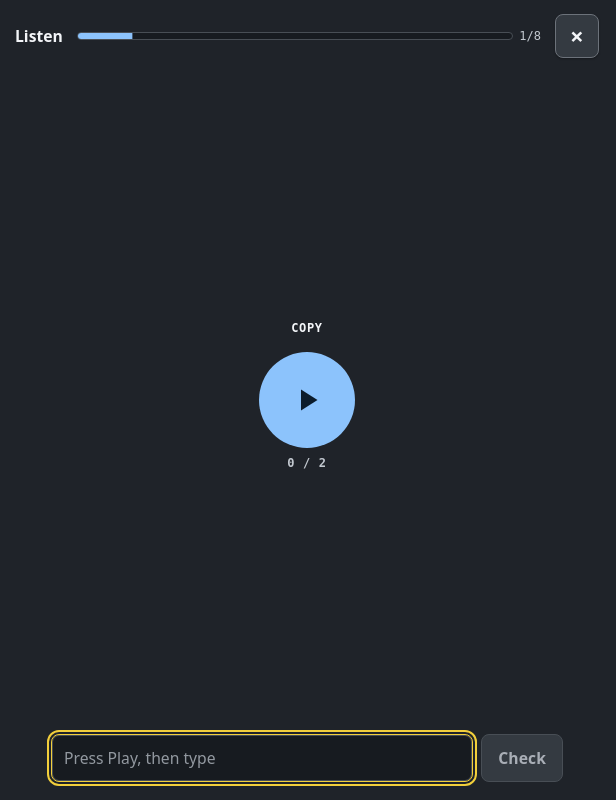
it: a copy run › omits a character cue when an insertion or deletion makes positions ambiguous
The width and height of the screenshot is (616, 800).
Click the button named "Play" at (307, 400), box [259, 352, 355, 448]
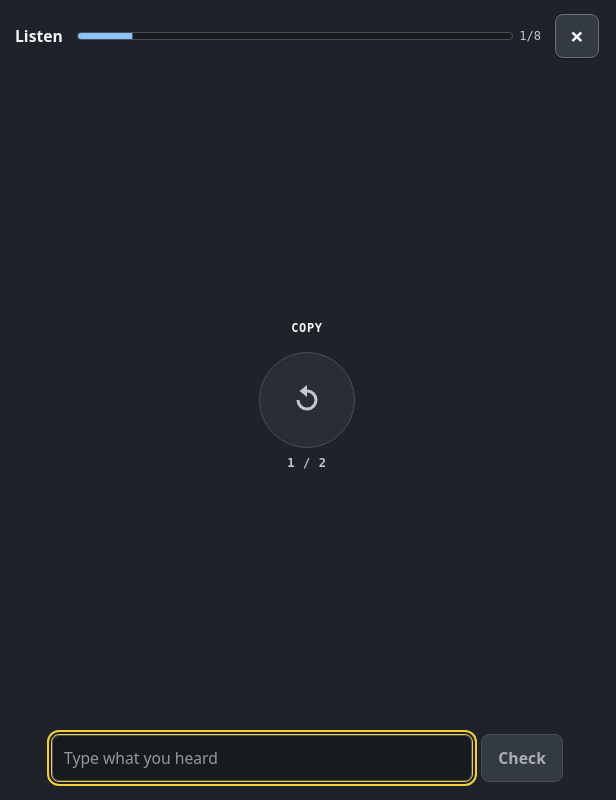
Type "RUCK" into the field labelled "what you heard" at (262, 758), box [51, 734, 473, 782]
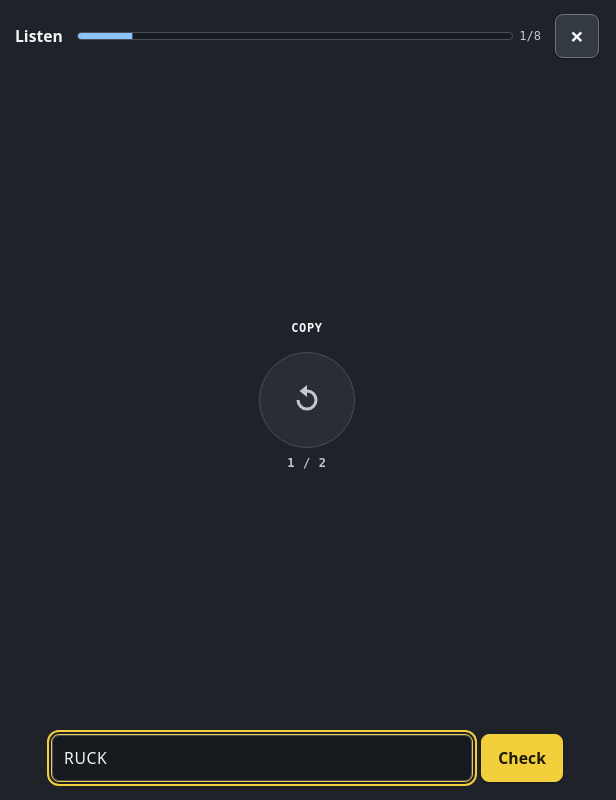
Submit the form named "What you heard", box [51, 734, 563, 782]
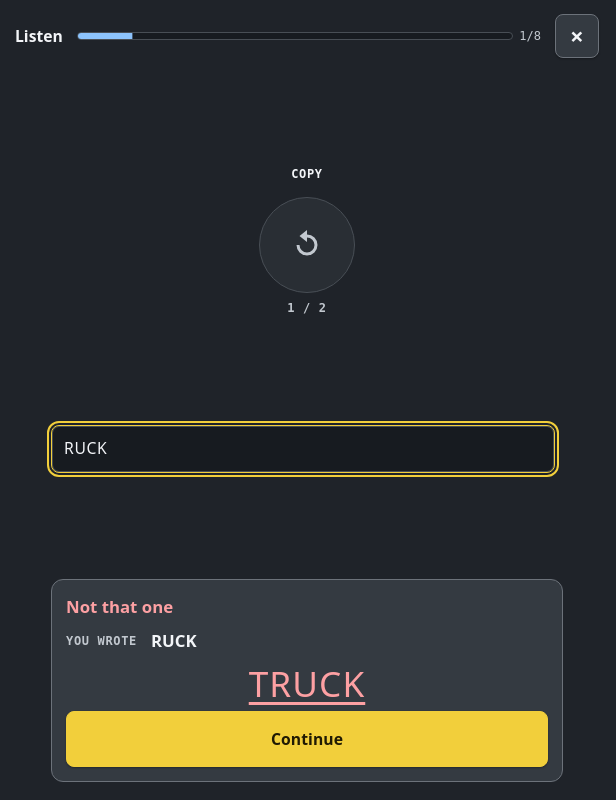
Expected: the text "You wrote" is shown, [66, 632, 137, 651]
